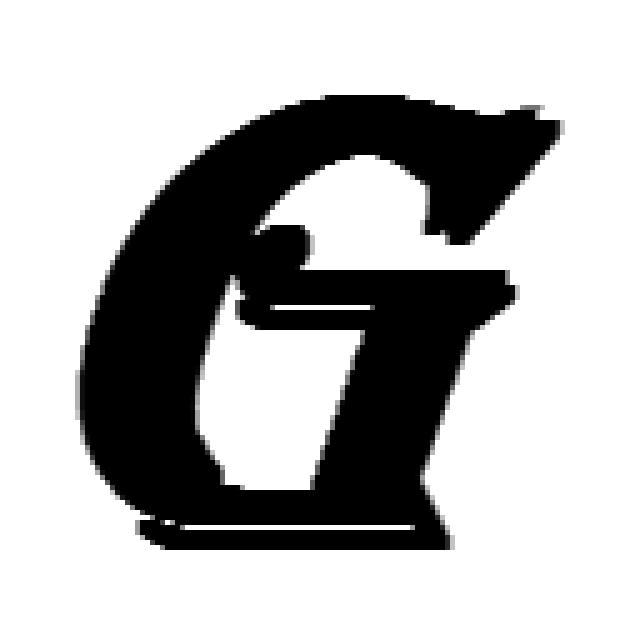G: (70, 85, 565, 555)
